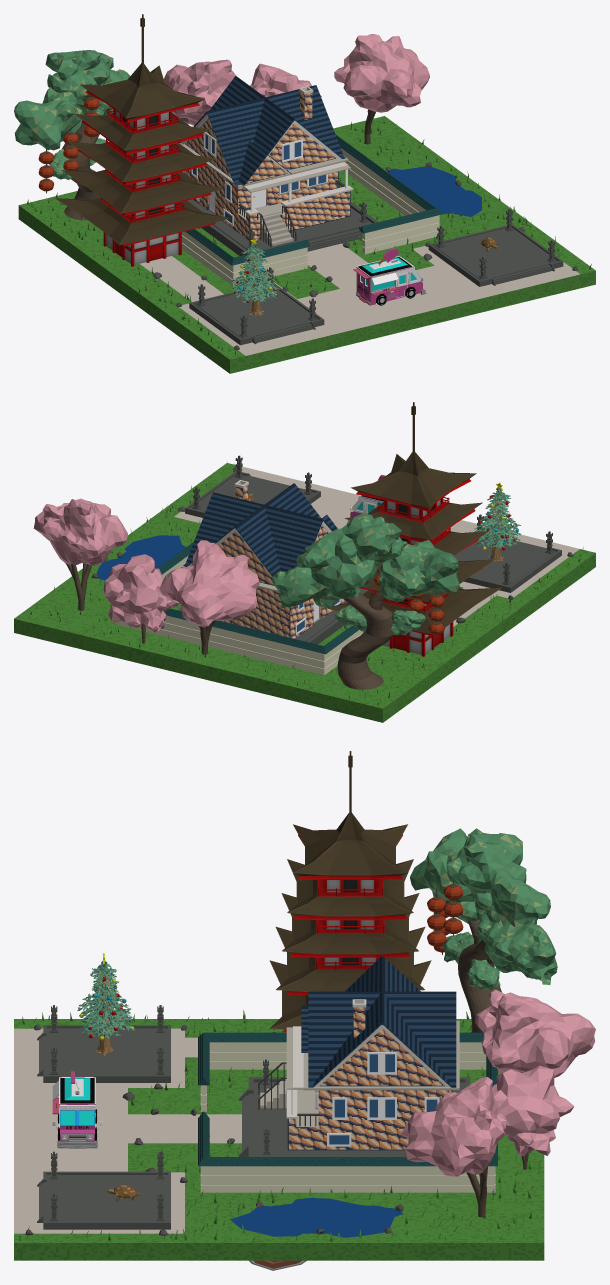
3 renders of one model, top to bottom at view 1: azimuth 30°, elevation 25°; view 2: azimuth 150°, elevation 25°; view 3: azimuth 270°, elevation 25°, orthographic. The views are drawn at different scales.
Visible parts, largest first — view 1: Cube.005, Cube.430, VEHICLES_ICE_CREAM_TRUCK, OBJRANDOM_CHRISTMAS_TREE; view 2: Cube.005, Cube.430, OBJRANDOM_CHRISTMAS_TREE, VEHICLES_ICE_CREAM_TRUCK; view 3: Cube.005, Cube.430, VEHICLES_ICE_CREAM_TRUCK, OBJRANDOM_CHRISTMAS_TREE.
Part boxes in pixels (x1,y1,x2,y2): Cube.005: (14, 14, 595, 373); Cube.430: (178, 76, 353, 247); VEHICLES_ICE_CREAM_TRUCK: (353, 248, 426, 305); OBJRANDOM_CHRISTMAS_TREE: (230, 238, 279, 315); Cube.005: (14, 402, 595, 722); Cube.430: (181, 480, 345, 638); OBJRANDOM_CHRISTMAS_TREE: (474, 482, 520, 562); VEHICLES_ICE_CREAM_TRUCK: (347, 475, 385, 523); Cube.005: (14, 751, 595, 1260); Cube.430: (258, 956, 459, 1150); VEHICLES_ICE_CREAM_TRUCK: (52, 1071, 102, 1148); OBJRANDOM_CHRISTMAS_TREE: (77, 953, 134, 1055).
Size of the model in its own units: 4528 by 3406 by 4389.
56 materials, 6 textured.
